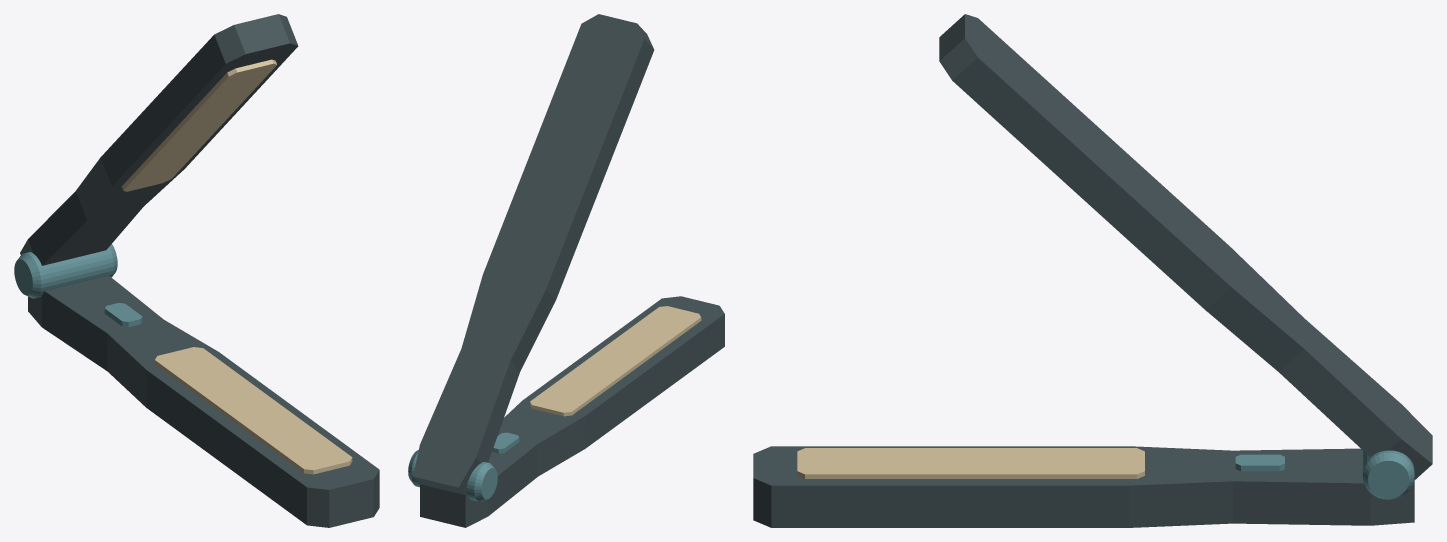
3 views of the same model, side by side, from view 1: azimuth 30°, elevation 25°; view 2: azimuth 150°, elevation 25°; view 3: azimuth 270°, elevation 25° (orthographic). The views are drawn at different scales.
Visible parts, largest first — view 1: WholeGroundedLowerLongArmCasing, WholeRaisedUpperLongArmCasing, WholeLowerInsetFlatPlate, WholeUpperInsetFlatPlate, WholeTransverseRearHingePin, WholeBlankGripControl; view 2: WholeRaisedUpperLongArmCasing, WholeGroundedLowerLongArmCasing, WholeLowerInsetFlatPlate, WholeTransverseRearHingePin, WholeBlankGripControl; view 3: WholeRaisedUpperLongArmCasing, WholeGroundedLowerLongArmCasing, WholeLowerInsetFlatPlate, WholeTransverseRearHingePin, WholeBlankGripControl.
Boxes of the visible parts, left/top/right/bottom form: WholeGroundedLowerLongArmCasing: left=28, top=275, right=379, bottom=527; WholeRaisedUpperLongArmCasing: left=20, top=14, right=298, bottom=265; WholeLowerInsetFlatPlate: left=154, top=347, right=352, bottom=474; WholeUpperInsetFlatPlate: left=121, top=59, right=276, bottom=191; WholeTransverseRearHingePin: left=14, top=244, right=117, bottom=298; WholeBlankGripControl: left=104, top=303, right=142, bottom=327; WholeRaisedUpperLongArmCasing: left=413, top=14, right=654, bottom=495; WholeGroundedLowerLongArmCasing: left=420, top=296, right=724, bottom=527; WholeLowerInsetFlatPlate: left=530, top=306, right=701, bottom=416; WholeTransverseRearHingePin: left=408, top=450, right=497, bottom=501; WholeBlankGripControl: left=492, top=432, right=519, bottom=453; WholeRaisedUpperLongArmCasing: left=939, top=14, right=1432, bottom=480; WholeGroundedLowerLongArmCasing: left=753, top=446, right=1414, bottom=527; WholeLowerInsetFlatPlate: left=797, top=448, right=1144, bottom=478; WholeTransverseRearHingePin: left=1362, top=450, right=1414, bottom=499; WholeBlankGripControl: left=1235, top=454, right=1284, bottom=471.
Size of the model in its own units: 0.042 by 0.2051 by 0.262.
